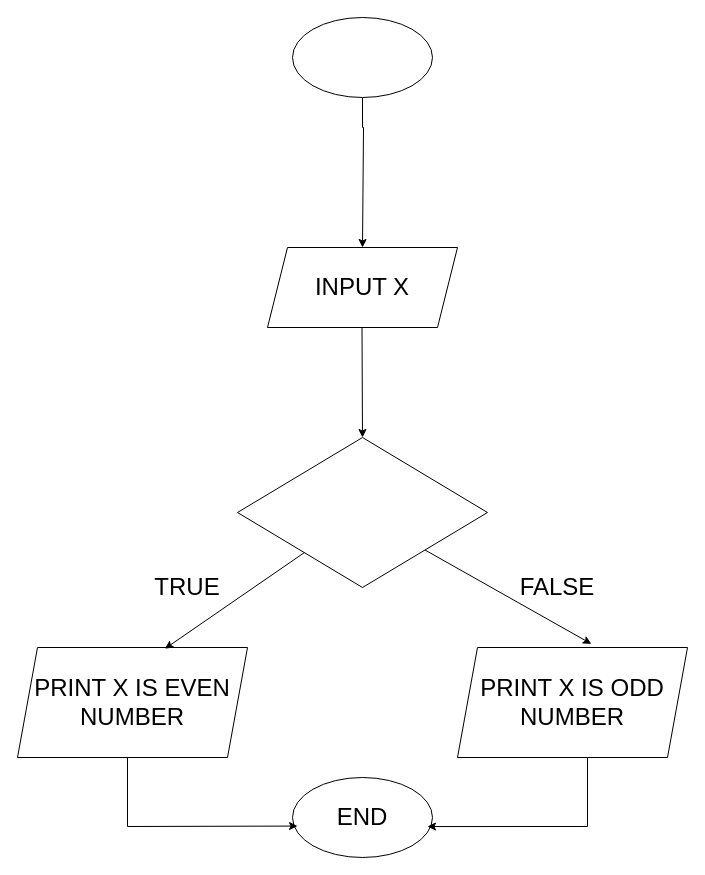
This 705x875 diagram has some shape labels left out. Here are the shapes that lost their labels. From the top down, the box of each, then its label:
(292, 16, 432, 98): START
(236, 436, 488, 588): IF X % 2 == 0
